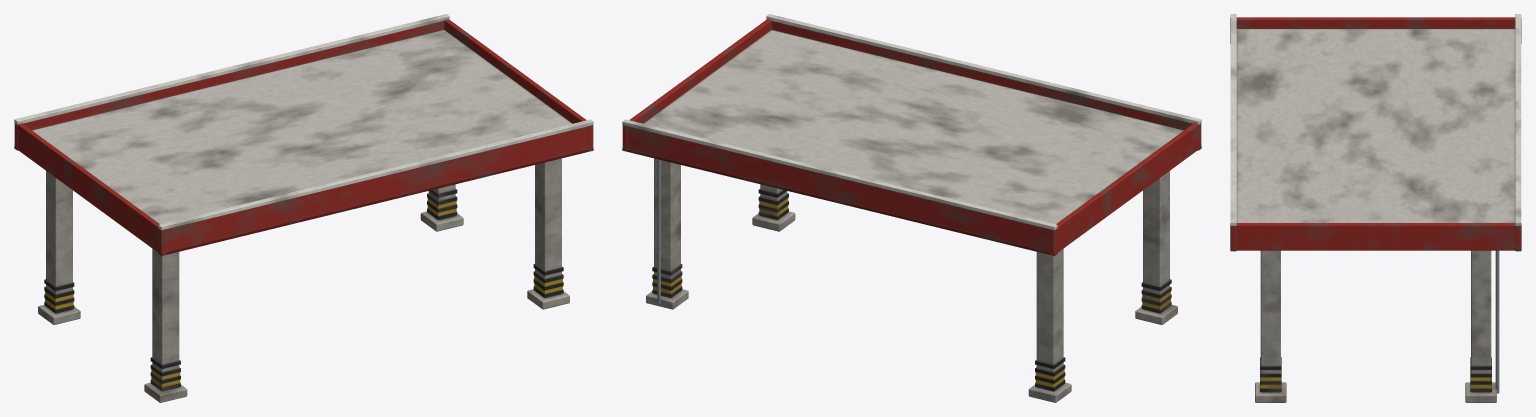
File: stacja_wiata.glb
3 renders of one model, left to right at view 1: azimuth 30°, elevation 25°; view 2: azimuth 150°, elevation 25°; view 3: azimuth 270°, elevation 25°, orthographic.
Parts seen in each view (by area): view 1: Wiata; view 2: Wiata; view 3: Wiata.
Boxes of the visible parts, box(x1,y1,x2,y2) form: Wiata: box(14, 14, 593, 402); Wiata: box(622, 14, 1201, 402); Wiata: box(1230, 14, 1521, 402).
Bounding box in the file's own units: 12.2 × 5.08 × 7.2.
Materials: 2 (1 with a texture image).
